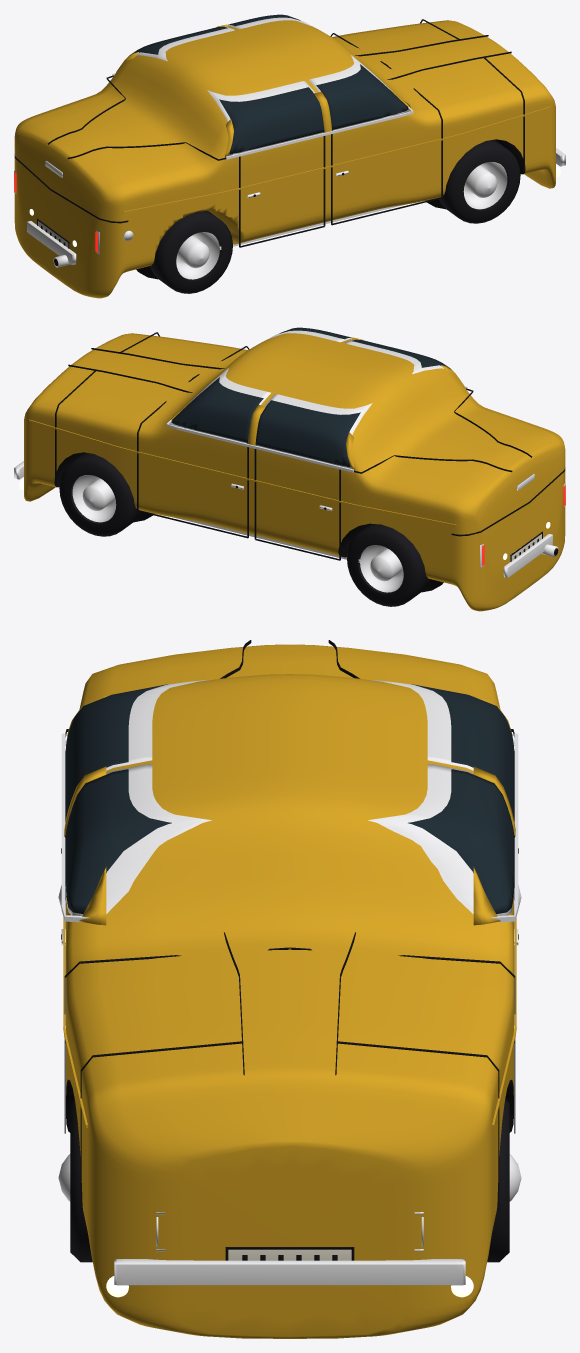
The model's file is t1_allergy.glb.
The picture shows the model from 3 angles, top to bottom: view 1: azimuth 30°, elevation 25°; view 2: azimuth 150°, elevation 25°; view 3: azimuth 270°, elevation 25°; orthographic projection. The views are drawn at different scales.
Visible parts, largest first — view 1: paint_00, glass_01, glass_00, tyre_01, tyre_03, chrome_06, paint_02, chrome_05, chrome_31, chrome_33, chrome_37, chrome_27 (+4 smaller); view 2: paint_00, glass_01, glass_00, tyre_00, tyre_02, chrome_06, paint_01, chrome_05, chrome_30, chrome_32, chrome_36, chrome_26 (+5 smaller); view 3: paint_00, glass_00, glass_01, chrome_02, chrome_05, chrome_06, tyre_02, tyre_03, wall_00, chrome_36, chrome_37.
Boxes of the visible parts, x1,y1,x2,y2 form: paint_00: (14, 20, 555, 298); glass_01: (132, 26, 324, 154); glass_00: (228, 14, 408, 129); tyre_01: (150, 211, 232, 293); tyre_03: (439, 139, 520, 223); chrome_06: (136, 26, 323, 155); paint_02: (123, 106, 550, 213); chrome_05: (228, 17, 409, 130); chrome_31: (176, 232, 219, 279); chrome_33: (463, 162, 507, 209); chrome_37: (225, 106, 413, 159); chrome_27: (177, 236, 209, 268); paint_00: (24, 333, 565, 611); glass_01: (255, 339, 447, 467); glass_00: (171, 327, 351, 442); tyre_00: (347, 524, 429, 606); tyre_02: (59, 452, 140, 536); chrome_06: (256, 339, 443, 468); paint_01: (29, 419, 456, 526); chrome_05: (170, 330, 351, 443); chrome_30: (360, 545, 403, 592); chrome_32: (72, 475, 116, 522); chrome_36: (166, 419, 354, 472); chrome_26: (370, 549, 402, 581); paint_00: (66, 644, 513, 1338); glass_00: (65, 769, 514, 913); glass_01: (65, 684, 514, 819); chrome_02: (114, 1259, 465, 1285); chrome_05: (65, 764, 513, 915); chrome_06: (106, 680, 473, 770); tyre_02: (487, 1099, 509, 1262); tyre_03: (70, 1099, 92, 1262); wall_00: (228, 1249, 351, 1260); chrome_36: (490, 733, 518, 922); chrome_37: (61, 733, 89, 922).
Size of the model in its own units: 10.37 by 3.72 by 4.31.
